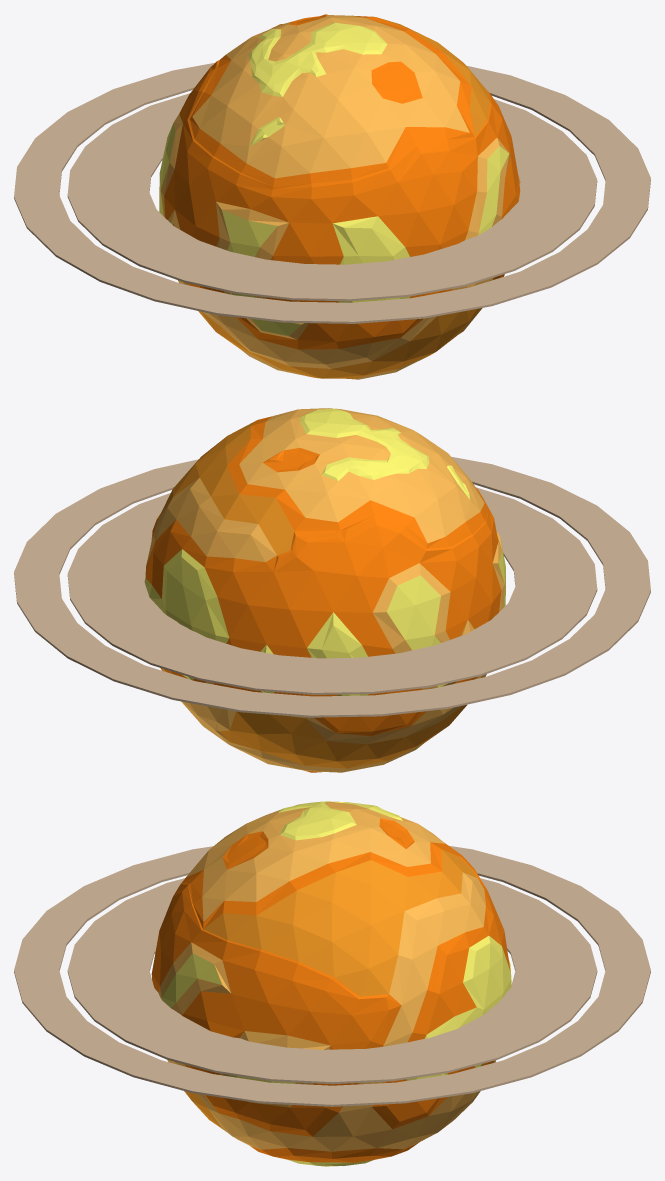
Rendered from 3D_Solar_System.FBX.
3 renders of one model, top to bottom at view 1: azimuth 30°, elevation 25°; view 2: azimuth 150°, elevation 25°; view 3: azimuth 270°, elevation 25°, orthographic.
Parts seen in each view (by area): view 1: Sun, Saturn_Rings; view 2: Sun, Saturn_Rings; view 3: Sun, Saturn_Rings.
Part boxes in pixels (<box>): Sun: <box>159,14,520,379</box>; Saturn_Rings: <box>14,63,650,323</box>; Sun: <box>144,408,505,772</box>; Saturn_Rings: <box>14,457,650,717</box>; Sun: <box>151,801,511,1166</box>; Saturn_Rings: <box>14,846,650,1106</box>.
Bounding box in the file's own units: 283 × 163 × 283.
12 materials, 12 textured.
